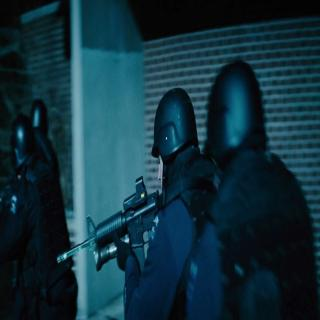gun: (46, 166, 170, 310)
